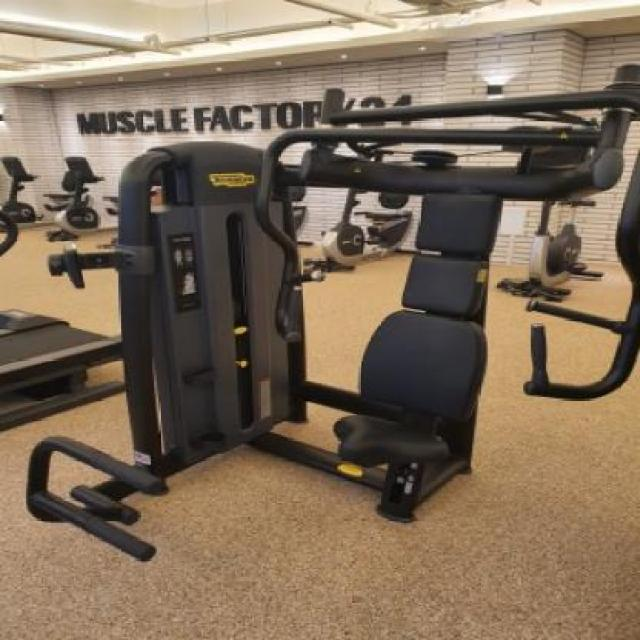Chest Press machine: (21, 58, 640, 619)
